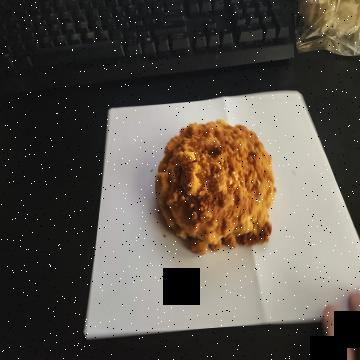soboru_bread: (154, 119, 276, 253)
